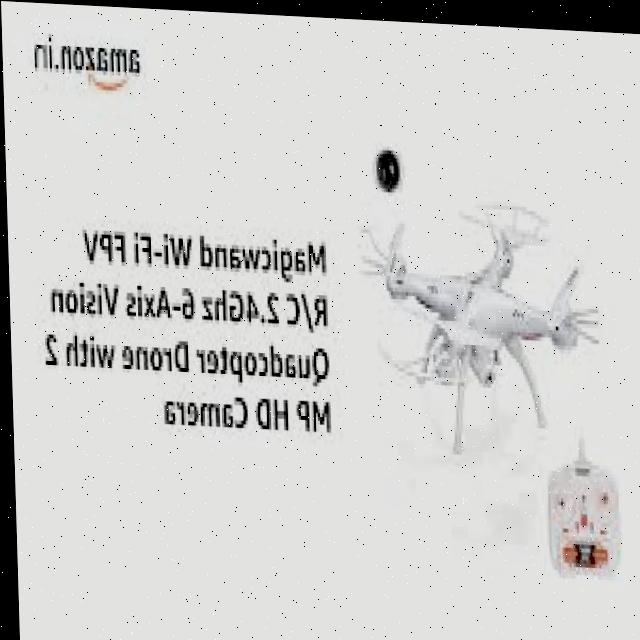drone: (354, 163, 606, 478)
